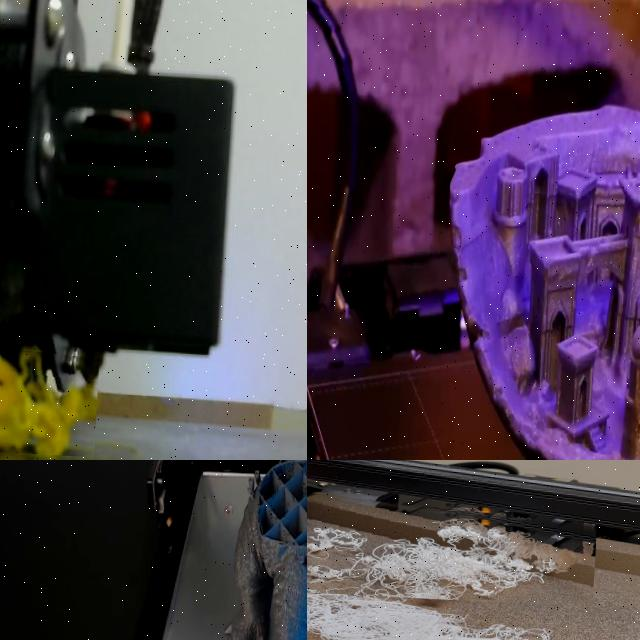spaghetti: (307, 489, 598, 607), (307, 587, 599, 640), (0, 350, 97, 455)
